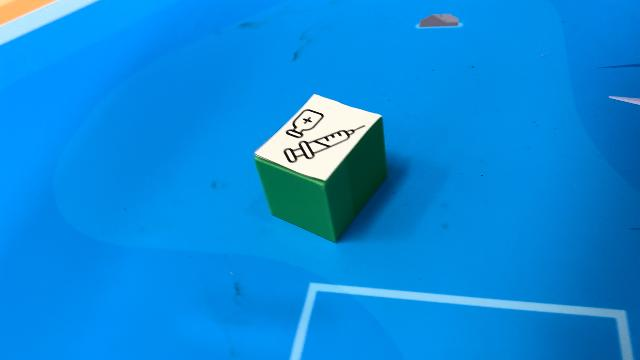syringe: (255, 93, 388, 243)
